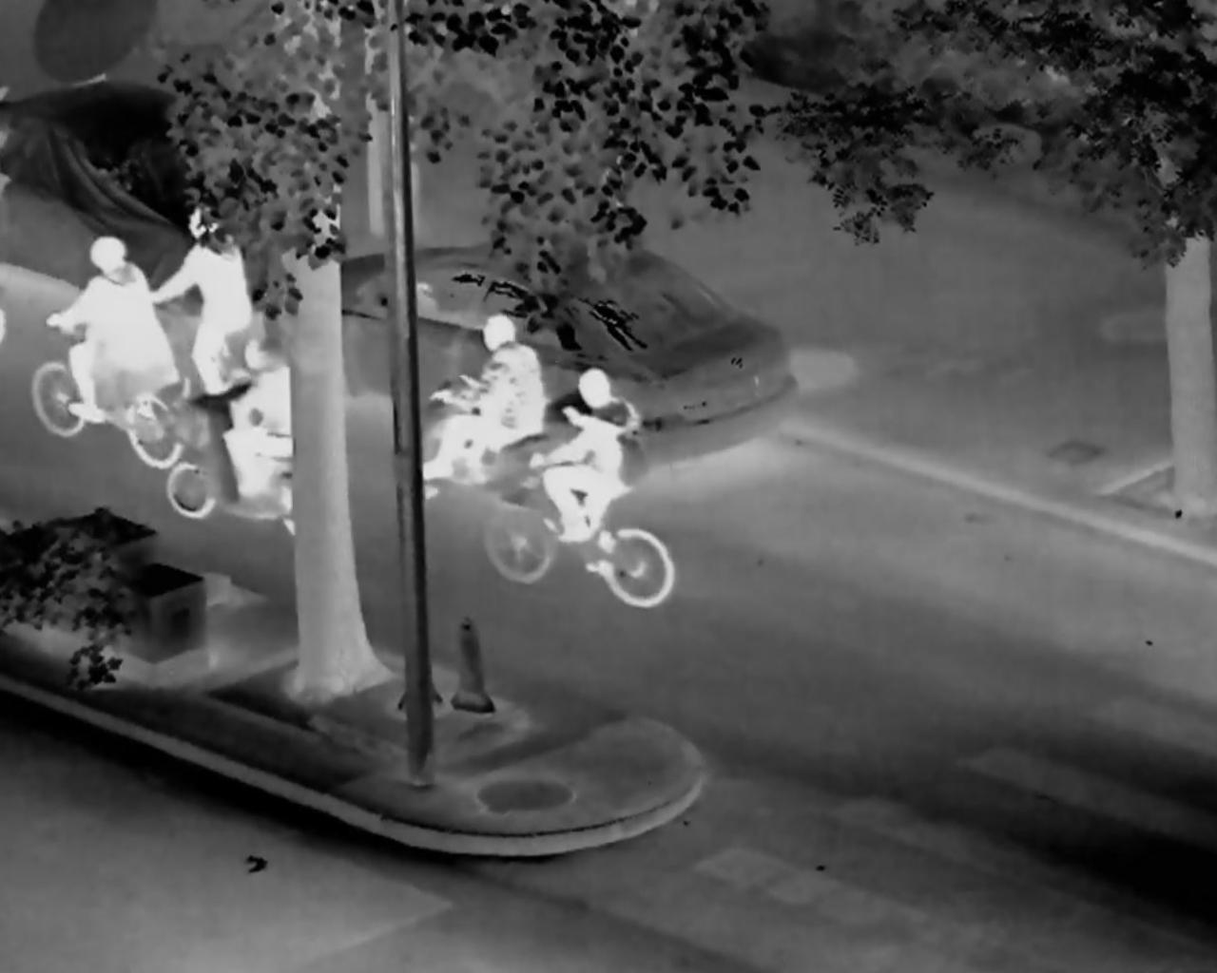person: (45, 238, 175, 426), (420, 314, 545, 480), (531, 370, 644, 543), (145, 200, 250, 385), (216, 343, 305, 495)
